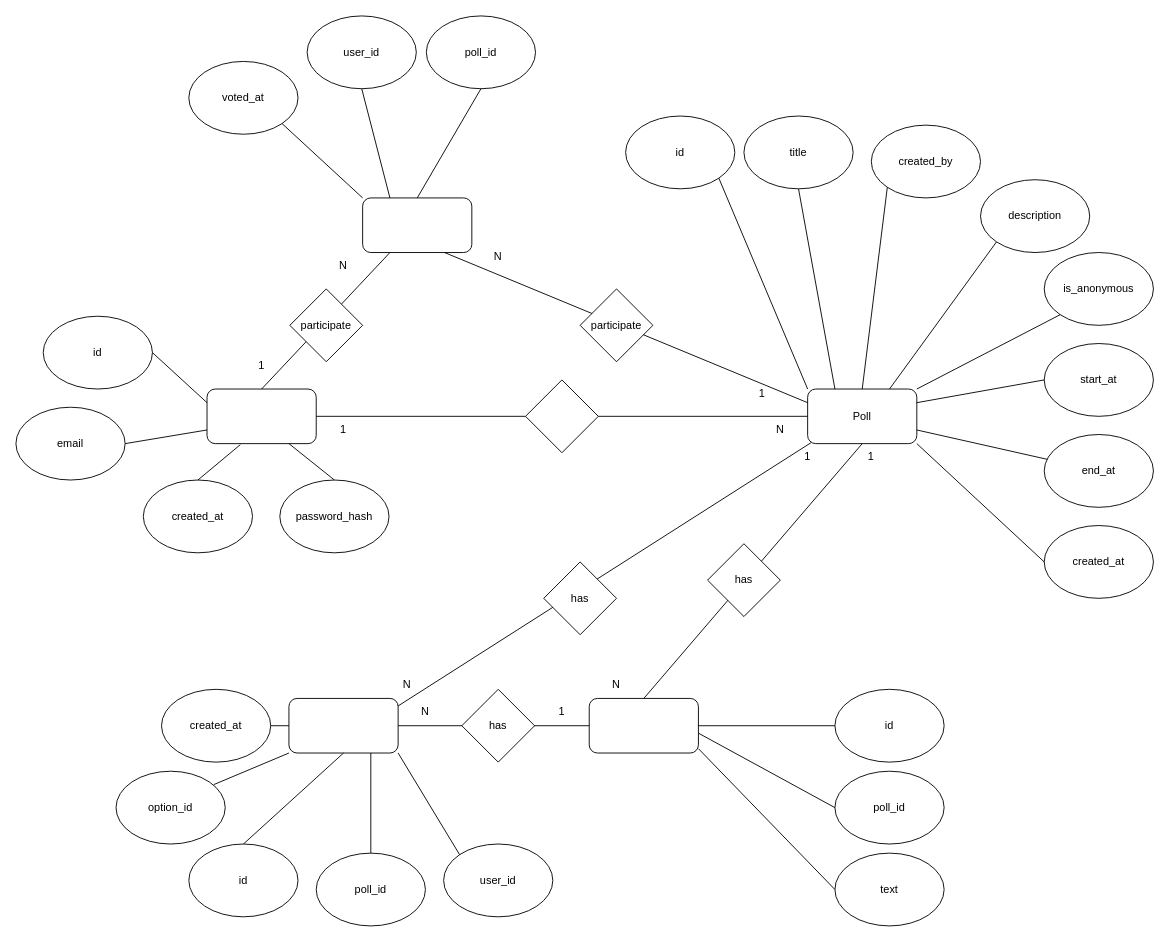
Some shapes in this 1169 by 942 pixel diagram are drawn without their labels. Here are the shapes that lost their labels. From the top down, the centre of each, then its label:
At pixel 417 225: "Poll Participants".
At pixel 261 416: "User".
At pixel 561 416: "creates".
At pixel 343 725: "Vote".
At pixel 643 725: "Option".
